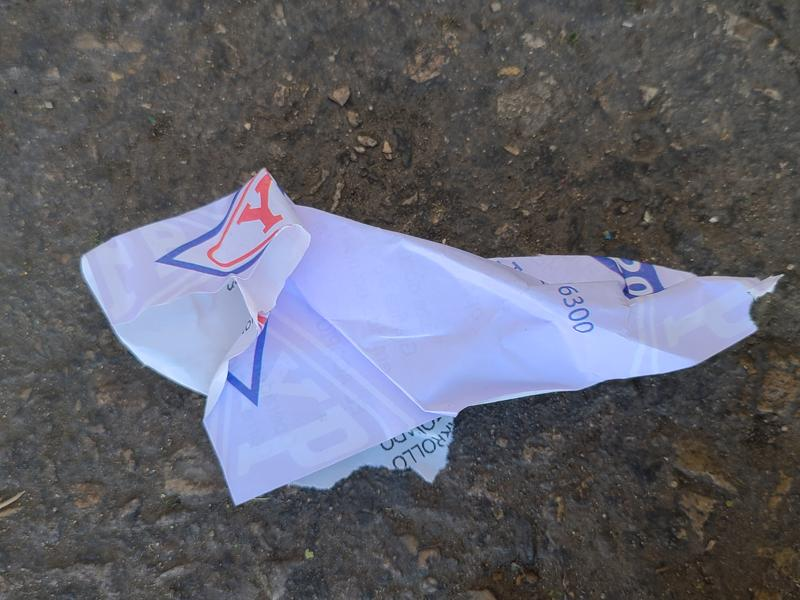papel: (77, 171, 784, 506)
